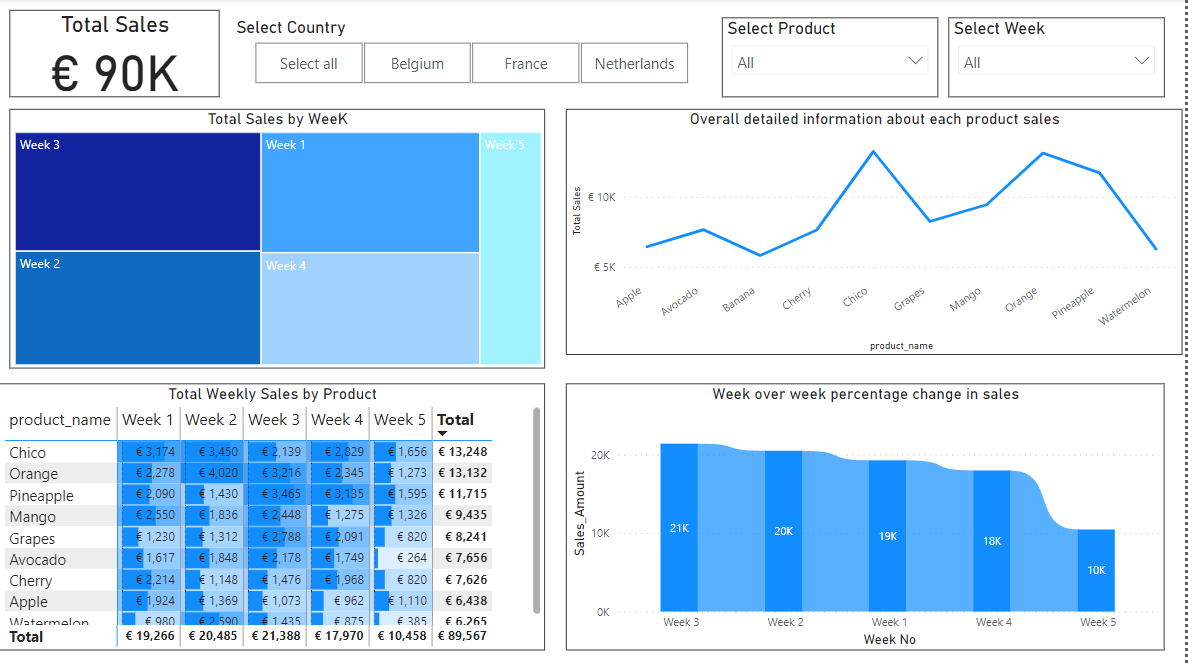

What the dashboard file says about the page in this screenshot:
{"tool":"powerbi","page":{"name":"Page 2","canvas":[1280,720],"ordinal":1},"visuals":[{"type":"treemap","fields":{"Group":["Master_Sales_Table.Week No"],"Values":["Master_Sales_Table.Total Sales"]},"box":[11,135.8,579.1,264.8],"z":0},{"type":"ribbonChart","title":"Week over week percentage change in sales","fields":{"Category":["Master_Sales_Table.Week No"],"Y":["Sum(Master_Sales_Table.Sales_Amount)"]},"box":[612,159.2,638.1,544.8],"z":1},{"type":"pivotTable","title":"Total Weekly Sales by Product","fields":{"Rows":["Master_Sales_Table.product_name"],"Columns":["Master_Sales_Table.Week No"],"Values":["Master_Sales_Table.Total Sales"]},"box":[0,416.2,611.5,287.9],"z":2},{"type":"slicer","title":"Select Country","fields":{"Values":["Master Sales Table.Country"]},"box":[274.4,20.6,491.3,78.2],"z":3},{"type":"card","title":"Total Sales","fields":{"Values":["Master_Sales_Table.Total Sales"]},"box":[32.8,12.8,226.6,94.1],"z":4}]}

Visuals, with their boxes in screenshot pixels (x1, y1, x2, y2), scaled from the page's 1280x720 canvas onto the 1188x664 screenshot:
treemap - Master_Sales_Table.Week No x Master_Sales_Table.Total Sales: 10:125:548:369
"Week over week percentage change in sales" ribbonChart: 568:147:1160:649
"Total Weekly Sales by Product" pivotTable: 0:384:568:649
"Select Country" slicer: 255:19:711:91
"Total Sales" card: 30:12:241:99
